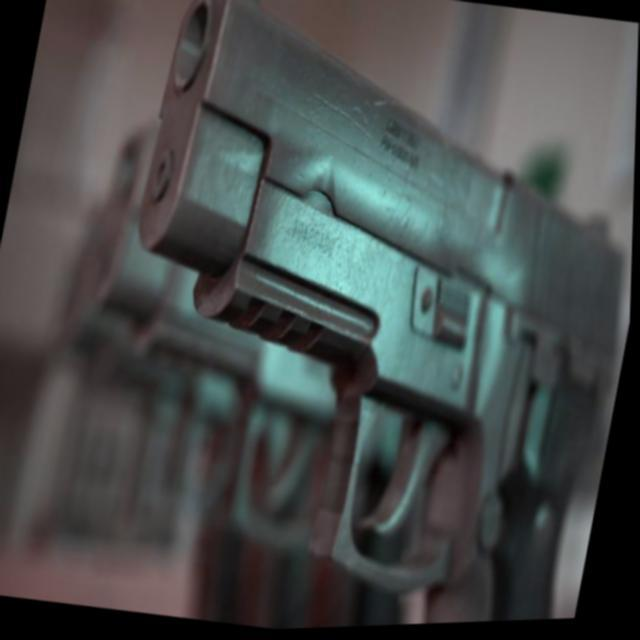weapon: (67, 0, 640, 638)
